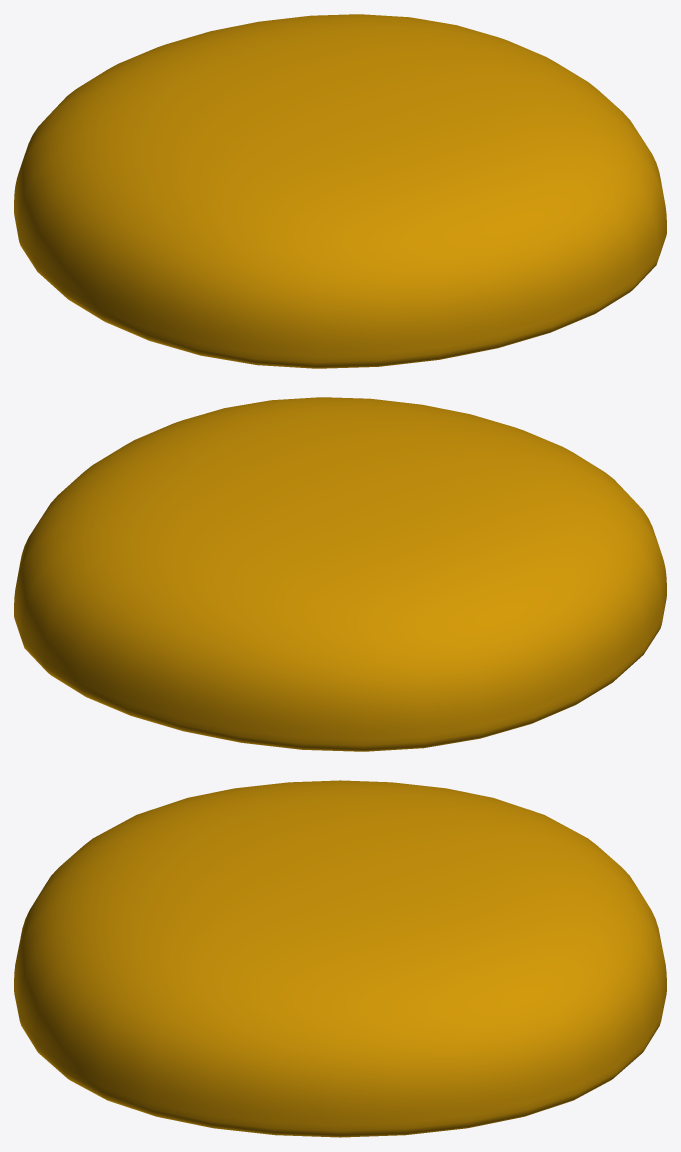
Rendered from head.glb.
3 views of the same model, one above another, from view 1: azimuth 30°, elevation 25°; view 2: azimuth 150°, elevation 25°; view 3: azimuth 270°, elevation 25° (orthographic). The views are drawn at different scales.
Parts seen in each view (by area): view 1: Cube.002; view 2: Cube.002; view 3: Cube.002.
Part boxes in pixels (box(x1,y1,x2,y2)): Cube.002: box(14, 14, 666, 368); Cube.002: box(14, 397, 666, 751); Cube.002: box(14, 780, 666, 1137).
Bounding box in the file's own units: 9.15 × 2.46 × 9.15.
